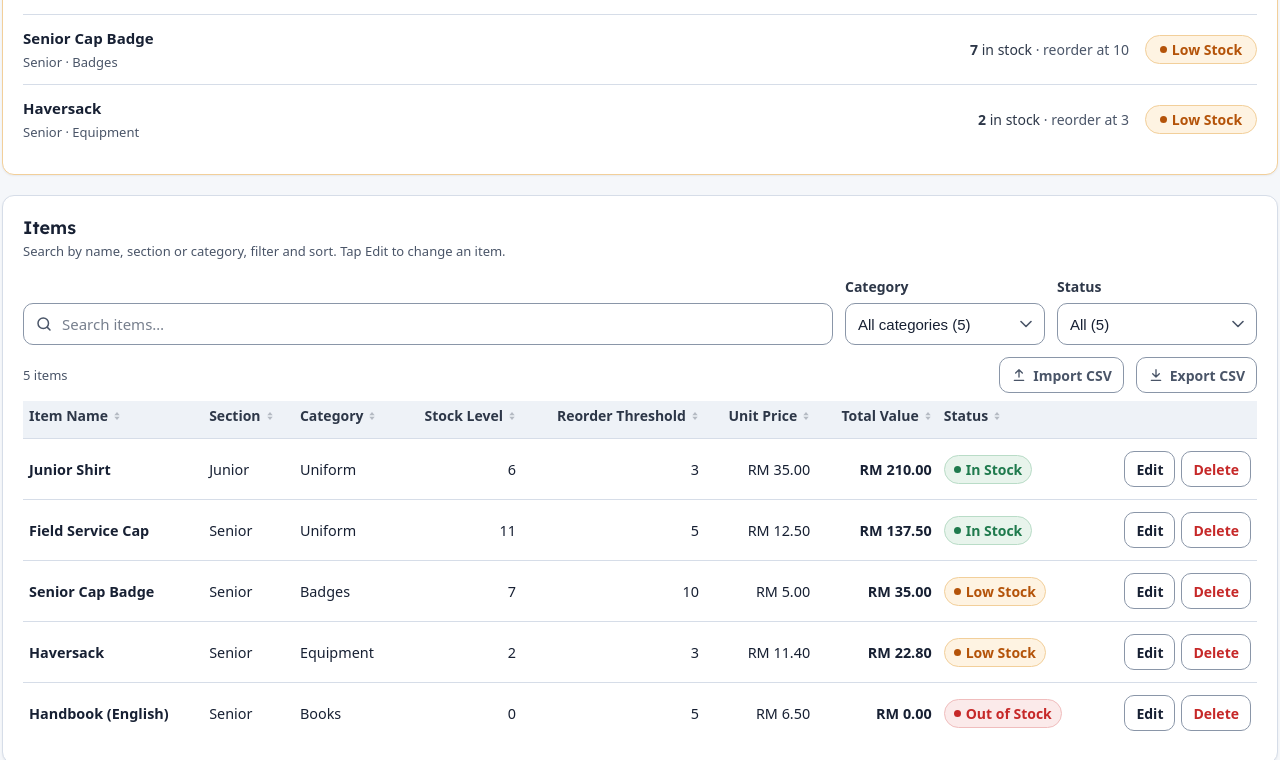
Test: the app › Cancel (or Esc) leaves the row as it was
(page scrolled)
Click the button with aria-label "Edit Junior Shirt" at (1150, 469), box [1124, 451, 1176, 487]
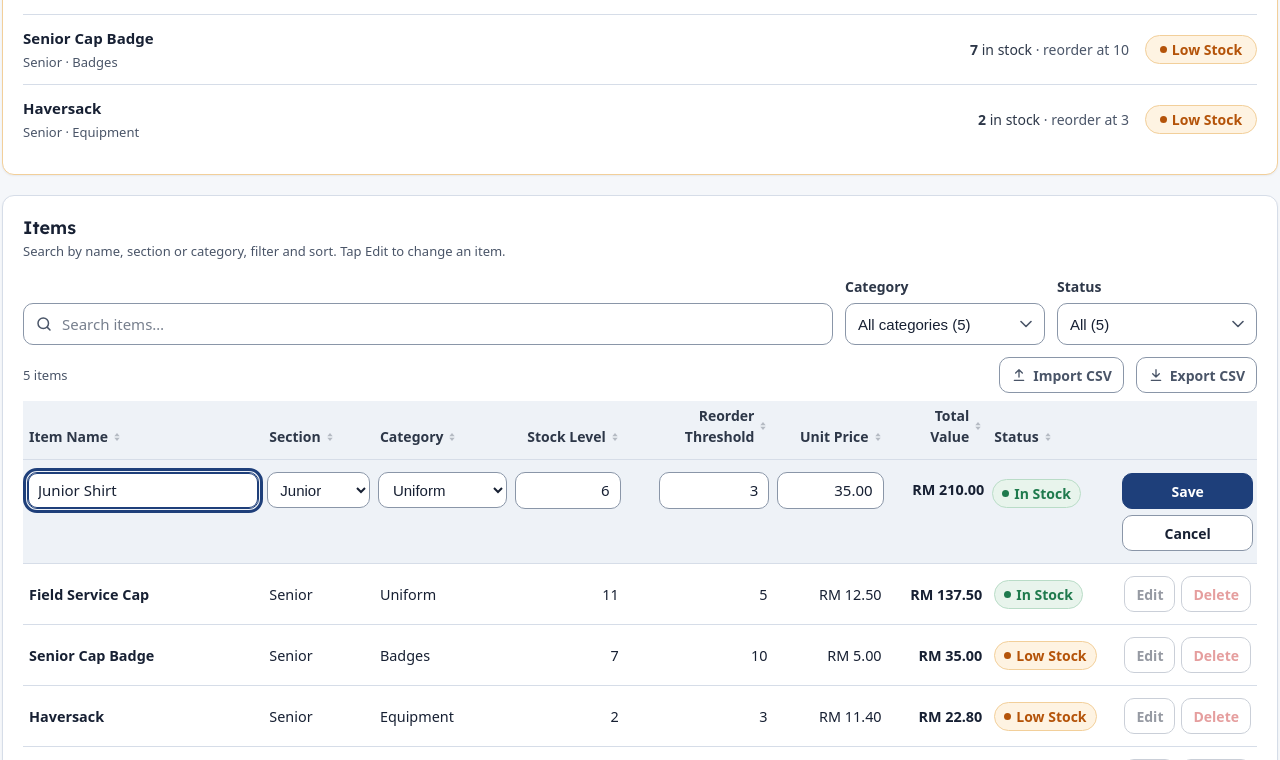
Replace the text in the field named "Stock level" with "99" at (568, 491), box [516, 472, 621, 509]
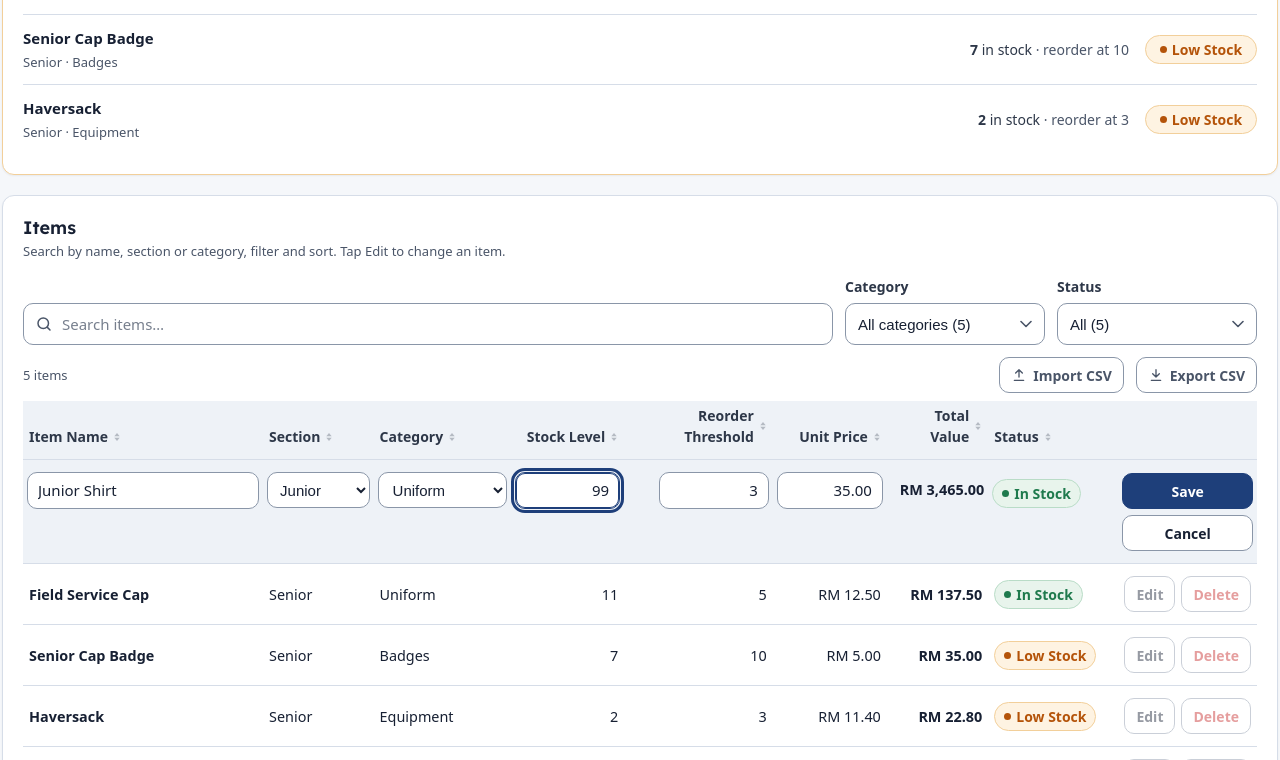
Press Escape
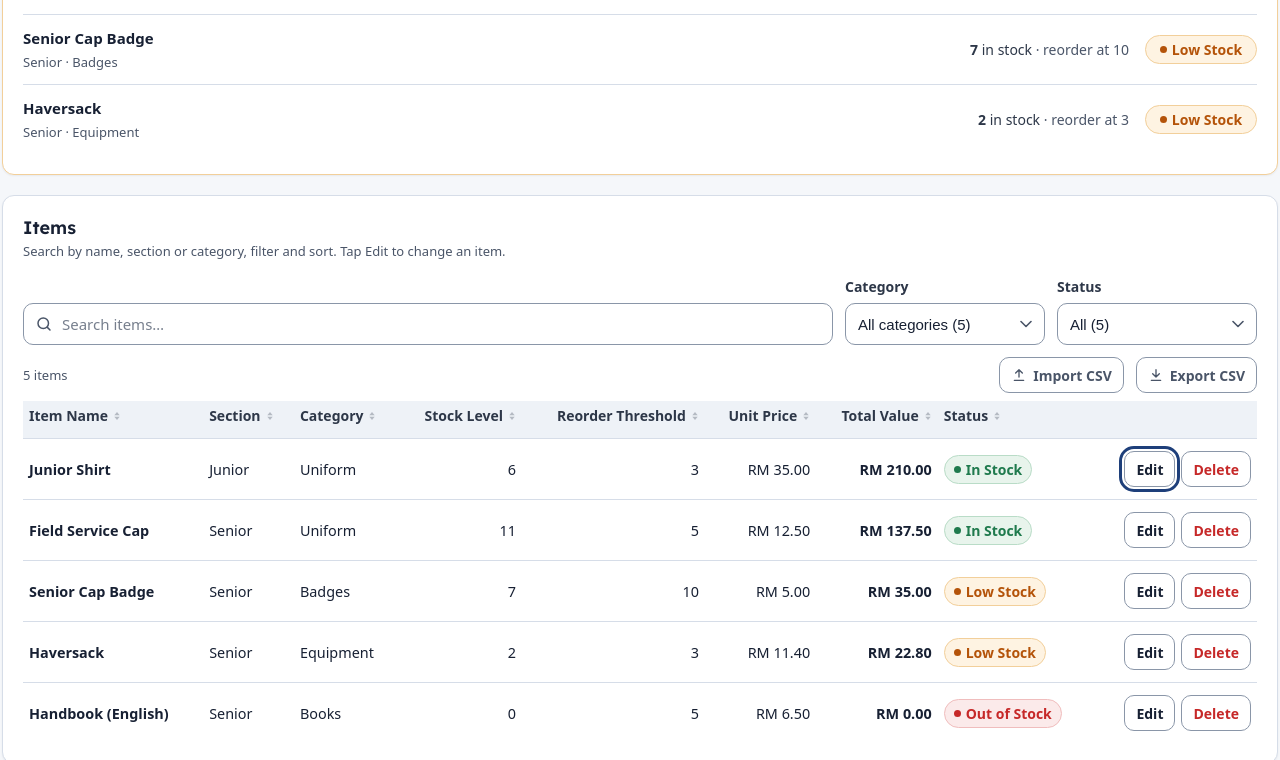
Now the cell "6" is shown, box [399, 439, 522, 500]
